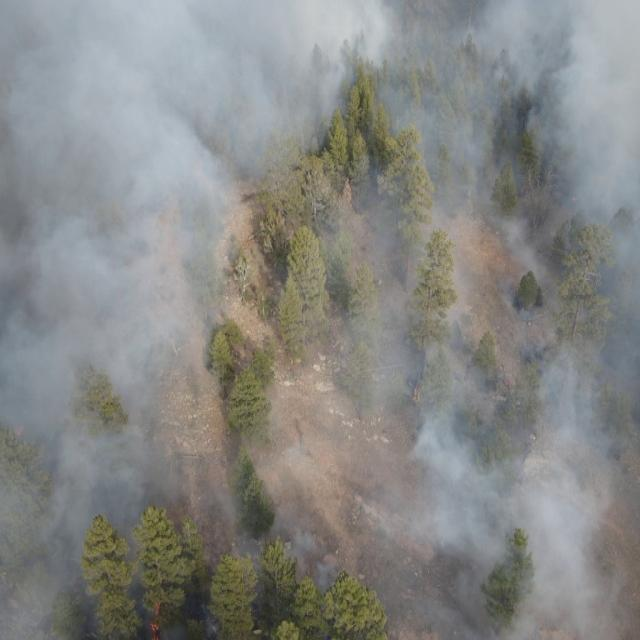fire: (135, 577, 176, 640), (408, 380, 427, 410), (497, 370, 515, 395)
smoke: (1, 0, 640, 502), (309, 552, 639, 640), (184, 505, 640, 553), (2, 501, 137, 640), (242, 555, 273, 614), (187, 590, 219, 638)
